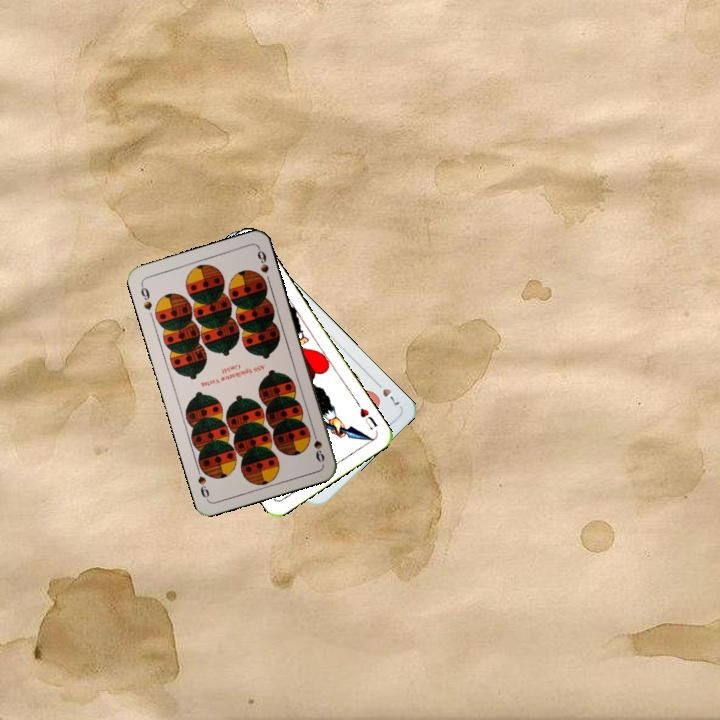H7: (371, 377, 403, 410)
HU: (352, 398, 380, 432)
S9: (308, 425, 327, 465), (137, 280, 155, 313)
